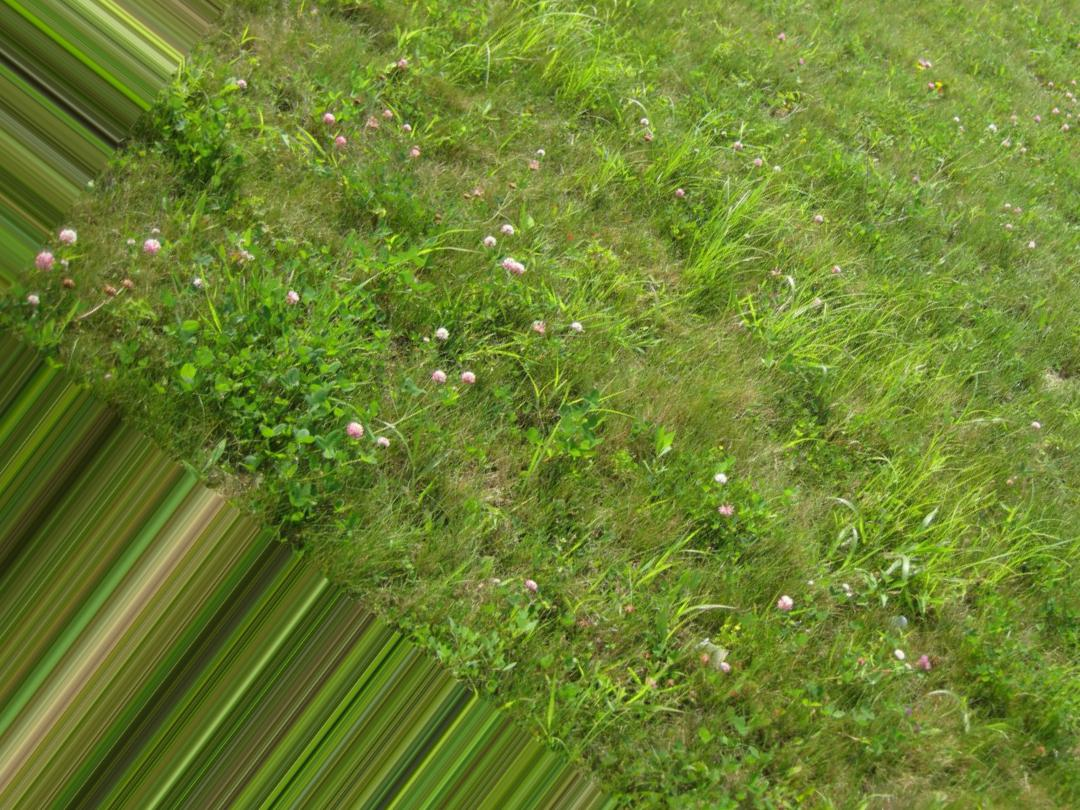patch: (684, 336, 762, 418)
